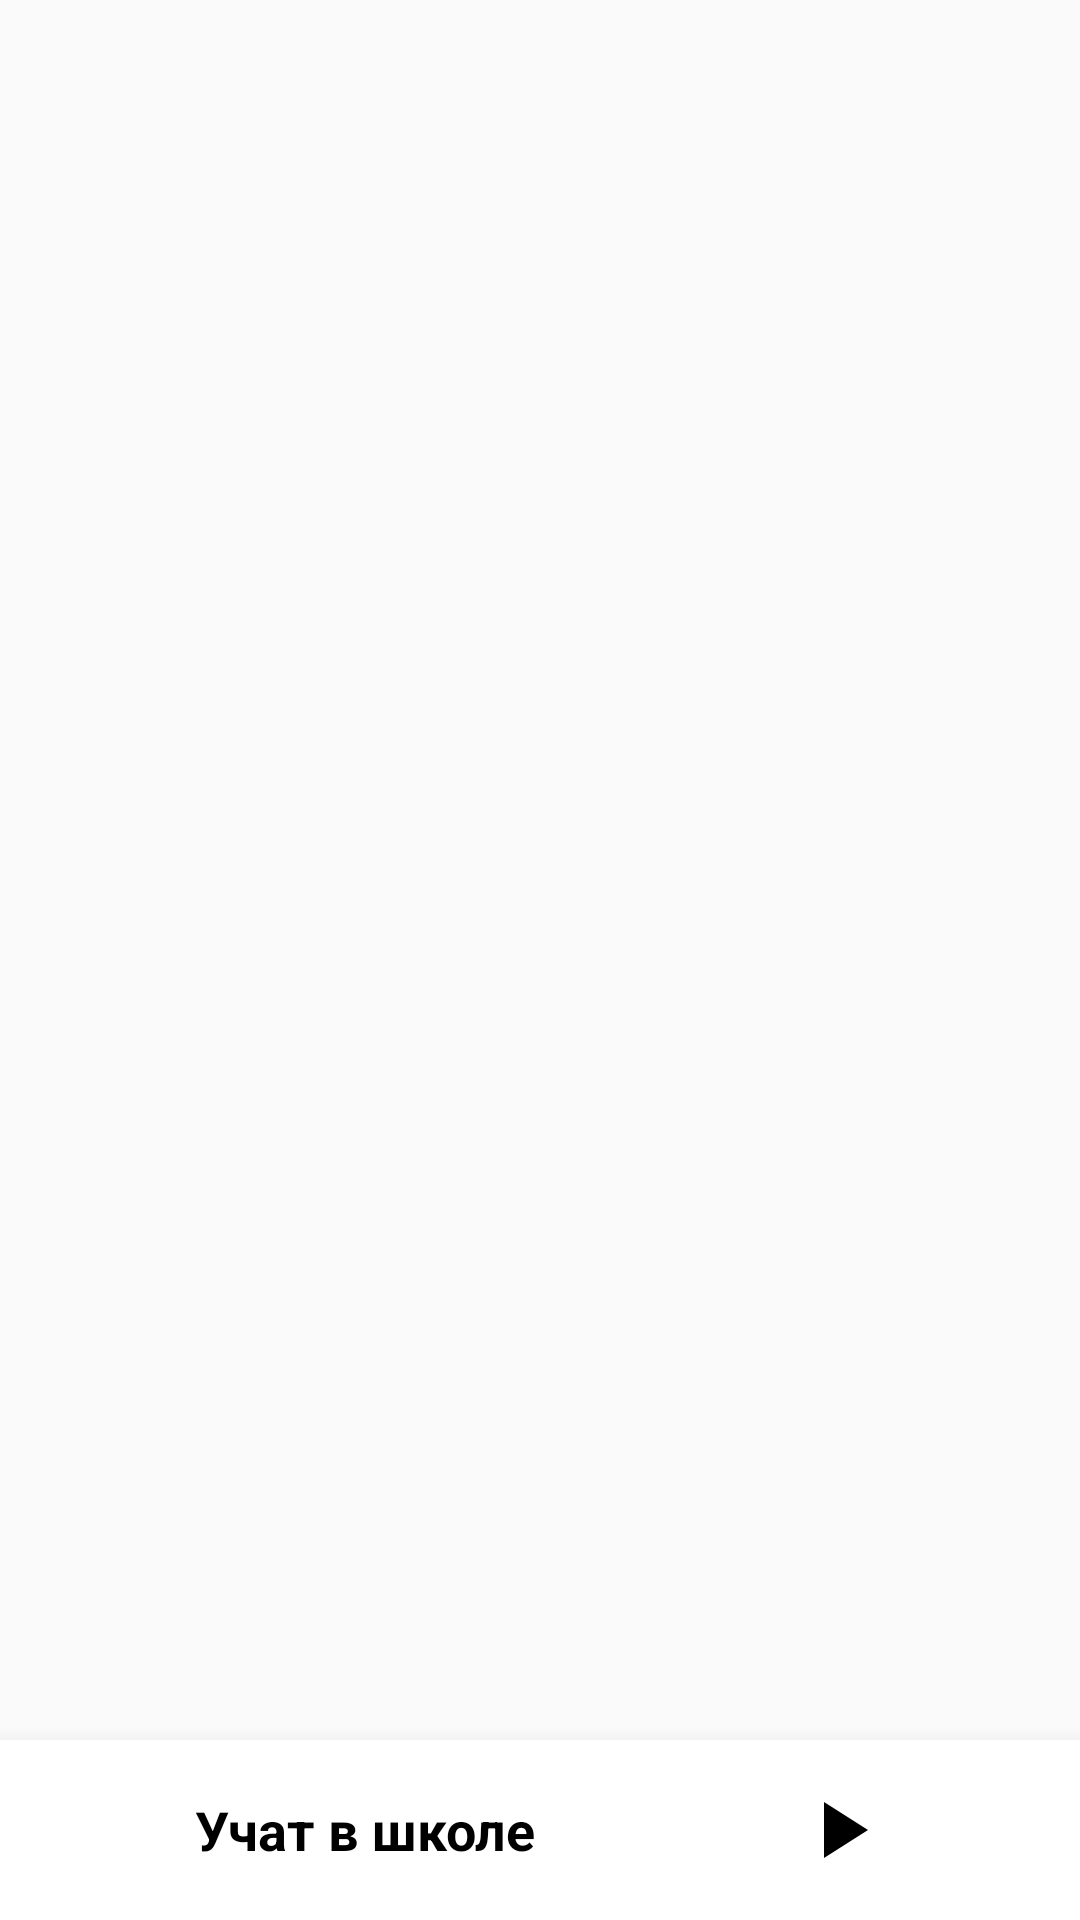

Icons on this 1080 x 1920 Android screen, each with its box as (left=x1, top=y1, right=x2, bottom=y2):
play: (left=824, top=1802, right=868, bottom=1858)
